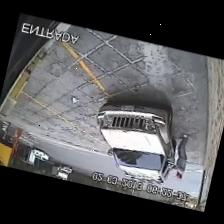person: (171, 133, 188, 178)
